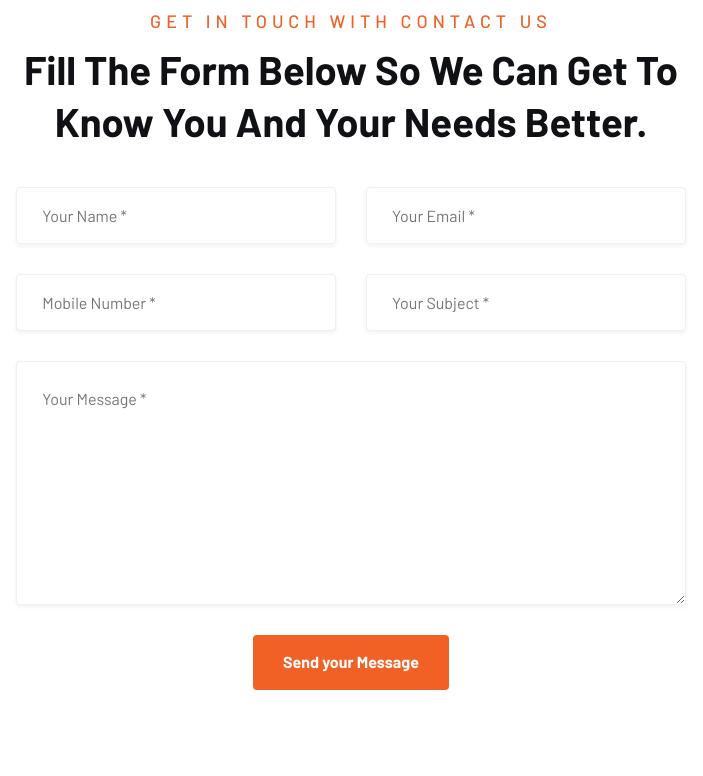
Test: contact form › validates required fields before showing a success message
(page scrolled)
Click the button "Send your Message" at (351, 662), box x1=253 y1=635 x2=449 y2=690
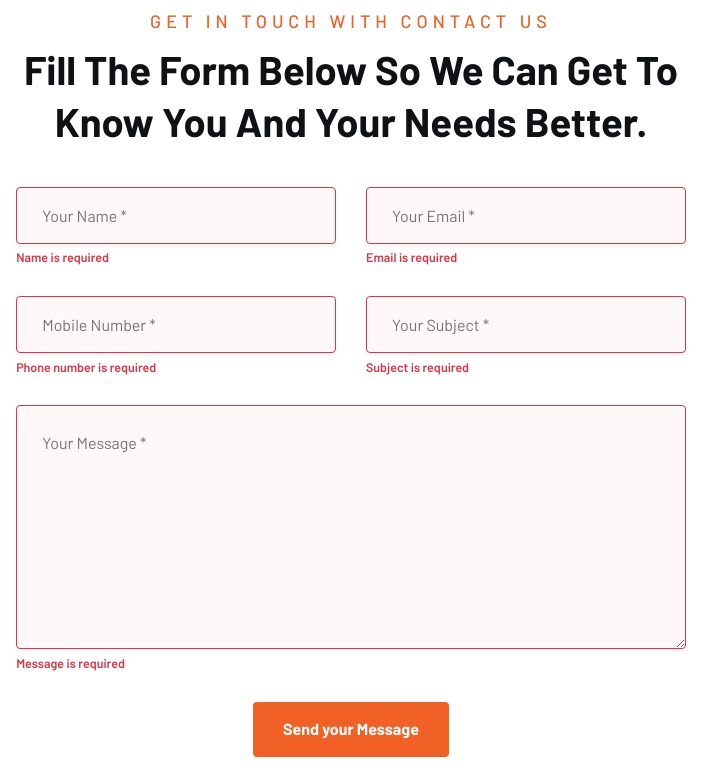
Expected: the text "Name is required" is shown, x1=16 y1=250 x2=109 y2=264
Expected: the text "Email is required" is shown, x1=366 y1=250 x2=457 y2=264
Expected: the text "Phone number is required" is shown, x1=16 y1=360 x2=156 y2=374
Type "Ankesh Raj" into the field with placeholder "Your Name *" at (176, 215), box x1=16 y1=187 x2=336 y2=244
Type "ankesh@example.com" into the field with placeholder "Your Email *" at (526, 215), box x1=366 y1=187 x2=686 y2=244
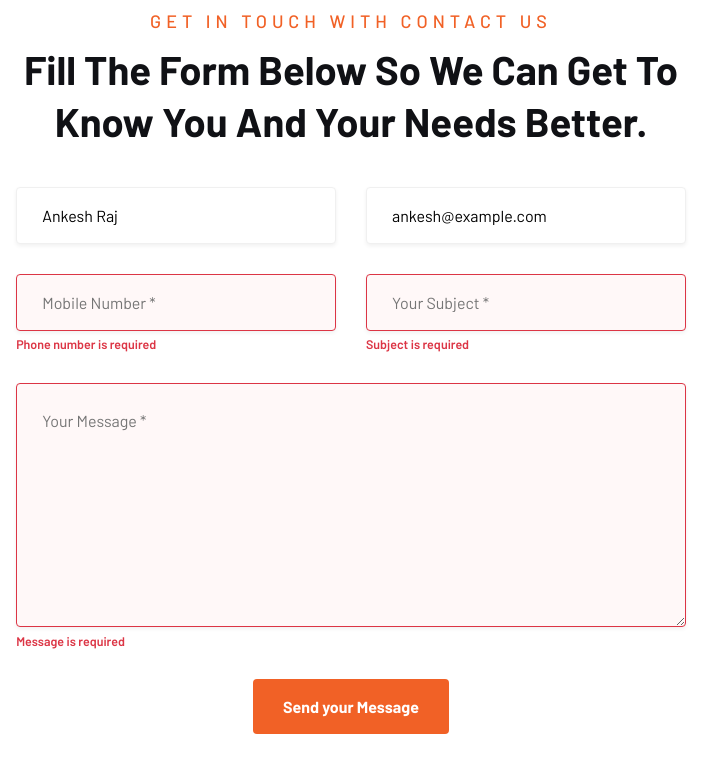
Type "+91 98765 43210" into the field with placeholder "Mobile Number *" at (176, 302), box x1=16 y1=274 x2=336 y2=331
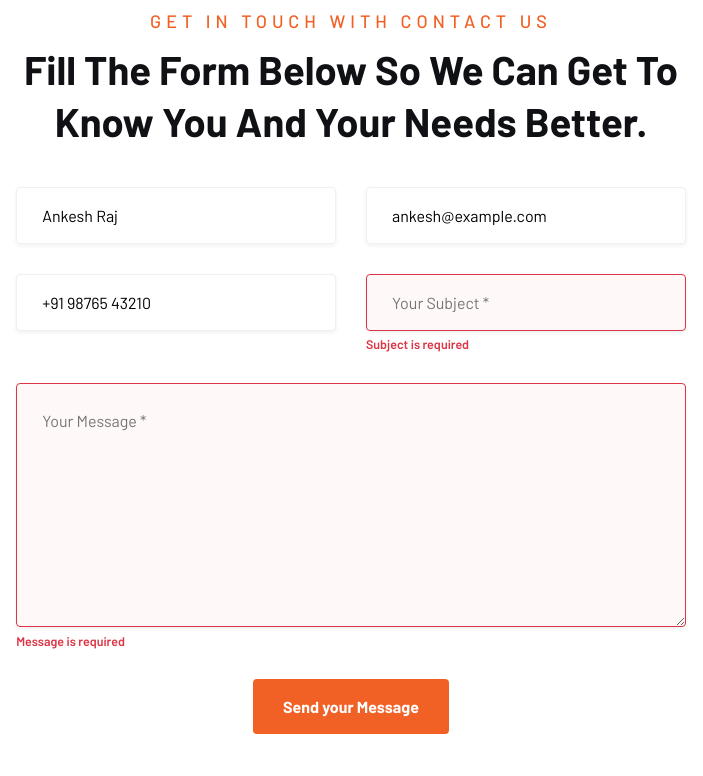
Type "Order help" into the field with placeholder "Your Subject *" at (526, 302), box x1=366 y1=274 x2=686 y2=331
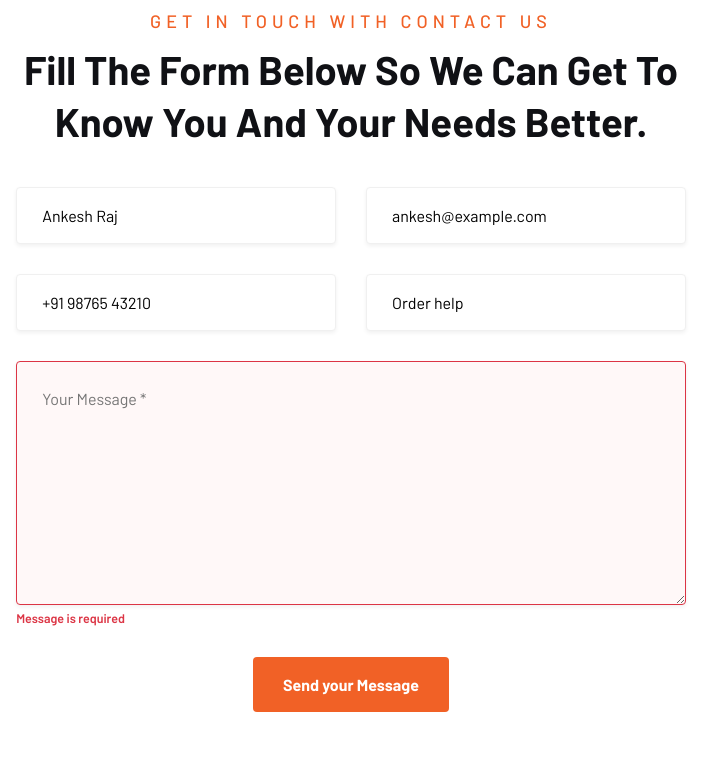
Type "Please help me with my recent order." into the text box with placeholder "Your Message *" at (351, 483), box x1=16 y1=361 x2=686 y2=605
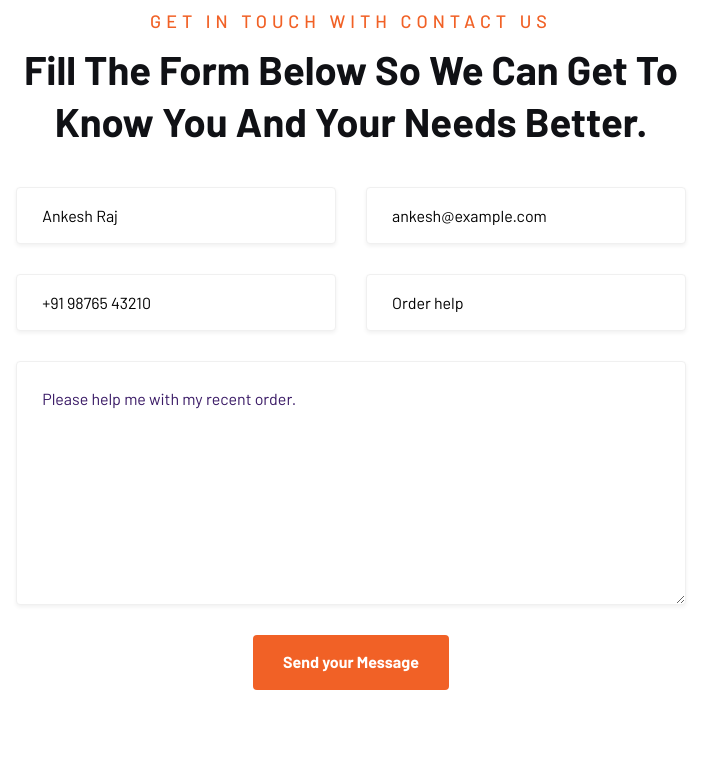
Click the button "Send your Message" at (351, 662), box x1=253 y1=635 x2=449 y2=690
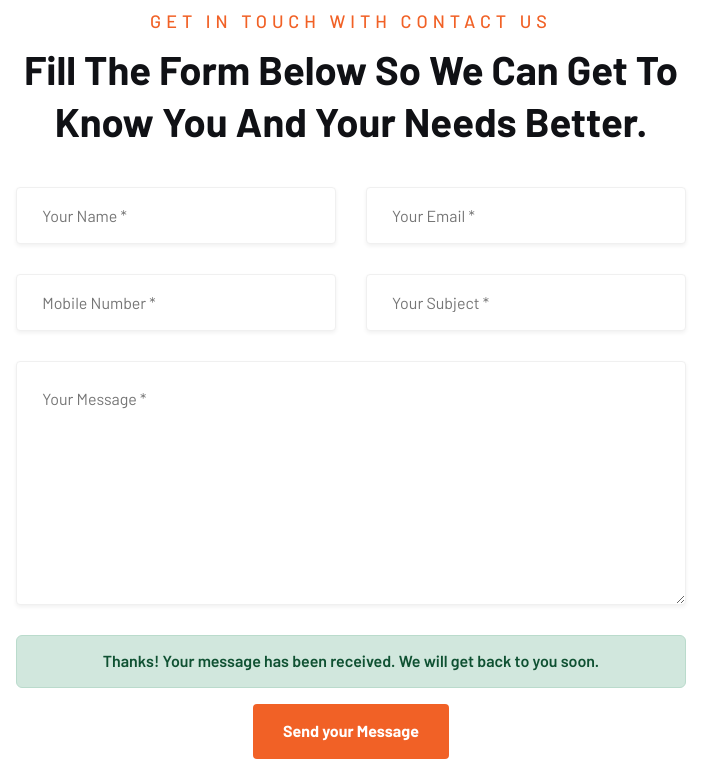
Expected: the message shows "Thanks! Your message has been received.", x1=103 y1=651 x2=599 y2=670
